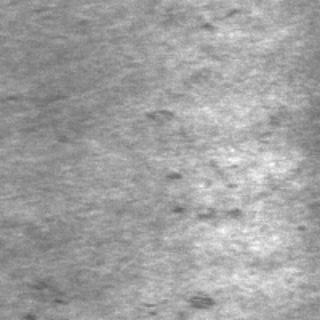rolled pit: (142, 106, 238, 216)
